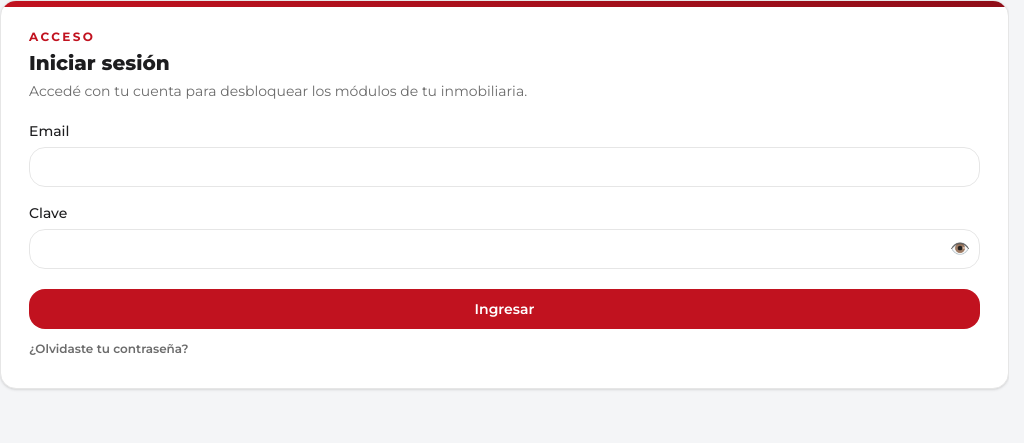
it: LoginPanel › muestra un error cuando las credenciales son inválidas
The width and height of the screenshot is (1024, 443).
Type "demo@vacker.com" into the field labelled "Email".
click(504, 167); type("demo@vacker.com")  # box x1=29 y1=147 x2=980 y2=187
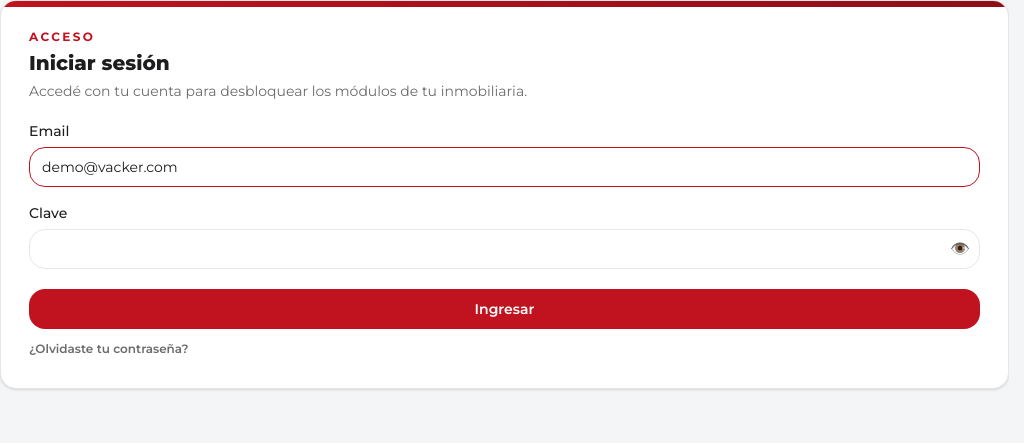
Type "mal" into the password field labelled "Clave".
click(504, 249); type("mal")  # box x1=29 y1=229 x2=980 y2=269
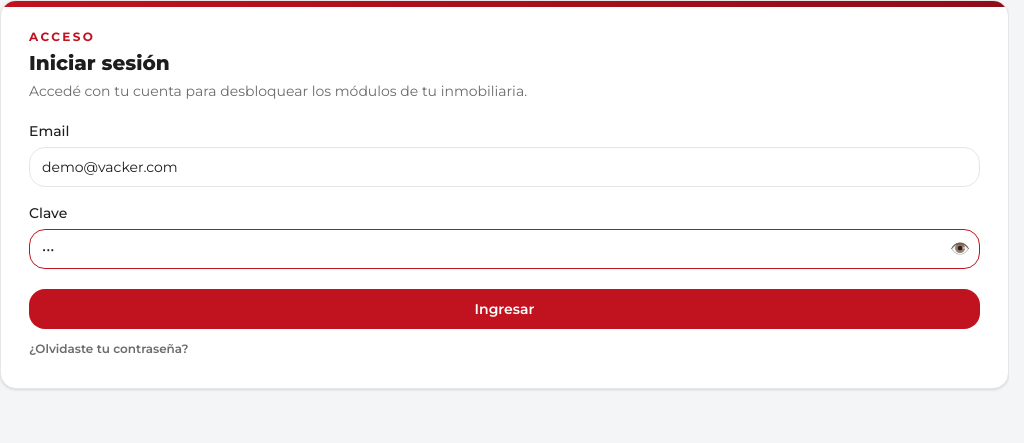
Click the button "Ingresar".
click(504, 309)  # box x1=29 y1=289 x2=980 y2=329
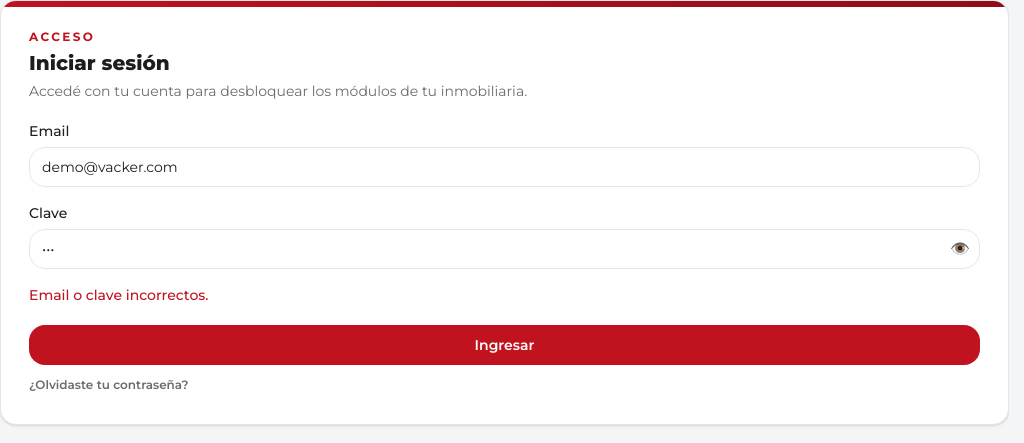
Now the message shows "incorrectos", box x1=29 y1=286 x2=208 y2=304
